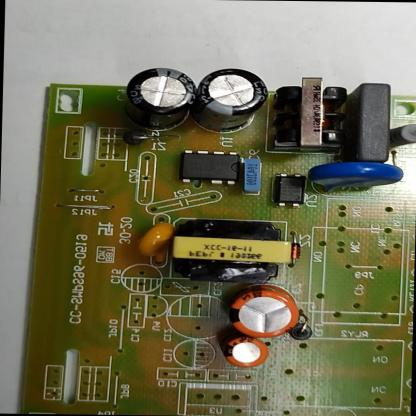Cap1: (224, 284, 307, 339)
Cap2: (219, 335, 274, 369)
Cap3: (188, 64, 272, 135)
Cap4: (118, 65, 199, 135)
MOSFET: (178, 148, 248, 188)
Mov: (303, 156, 407, 195)
Resistor: (385, 118, 415, 153)
Transformer: (166, 215, 296, 286), (268, 74, 354, 154)
